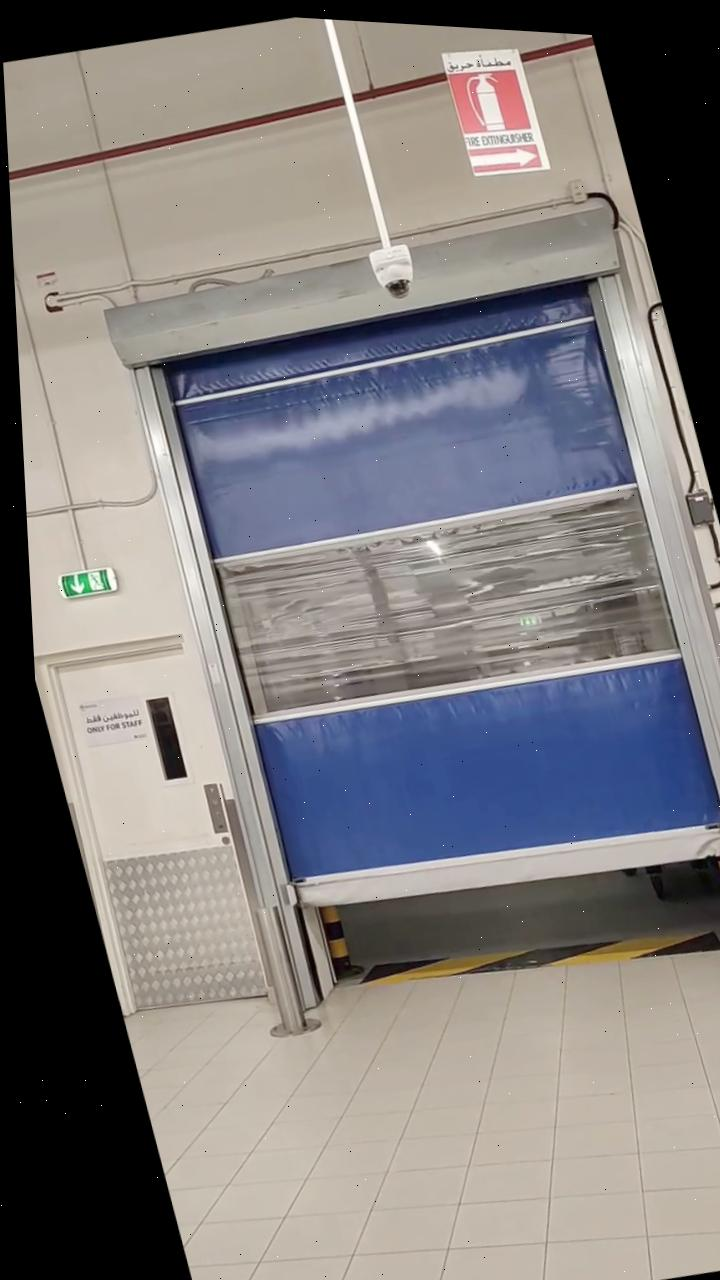Strip: (347, 871, 719, 1020)
